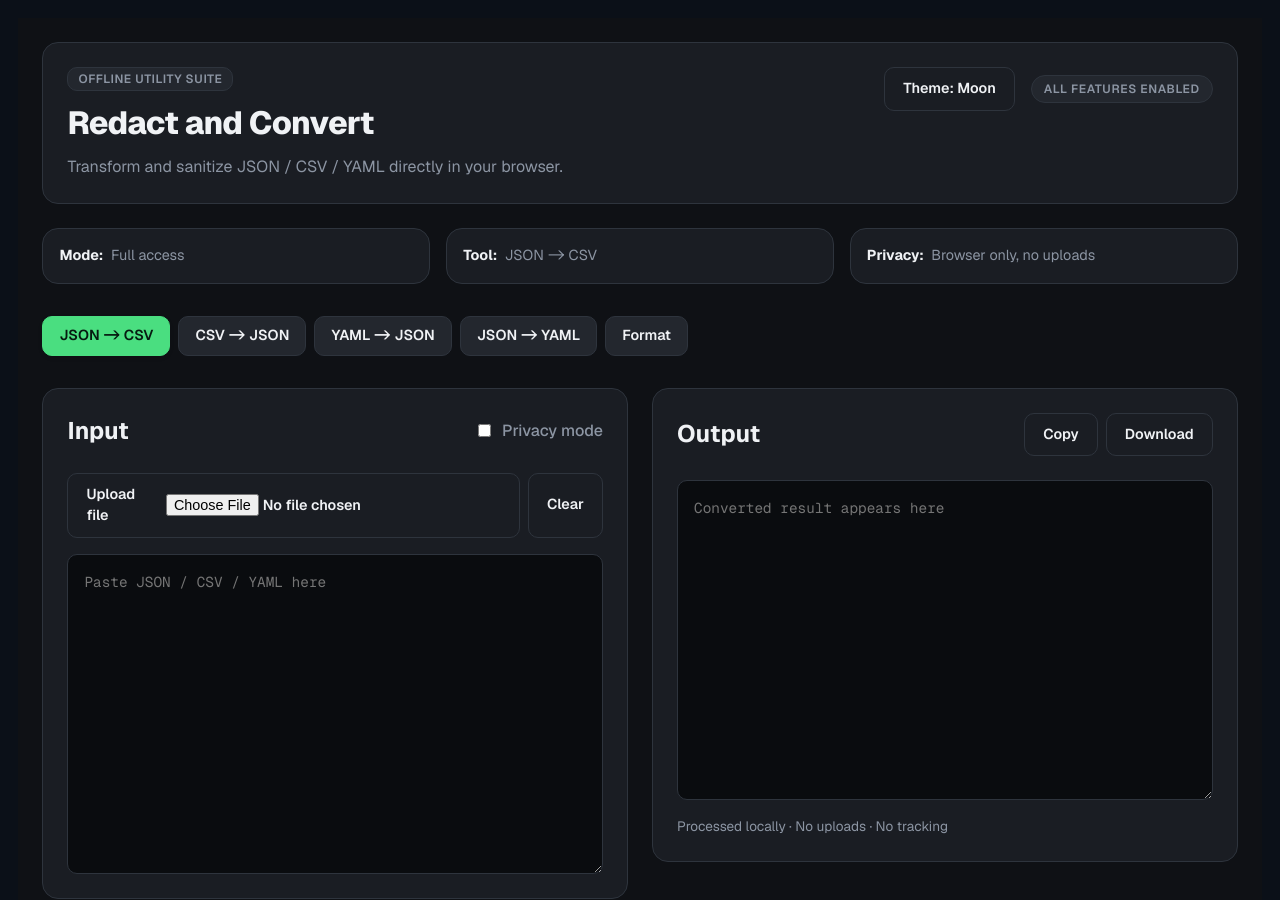
App integration › toggles theme between moon and dawn
Click the button with class "theme-toggle" at (950, 89), box [884, 67, 1015, 111]
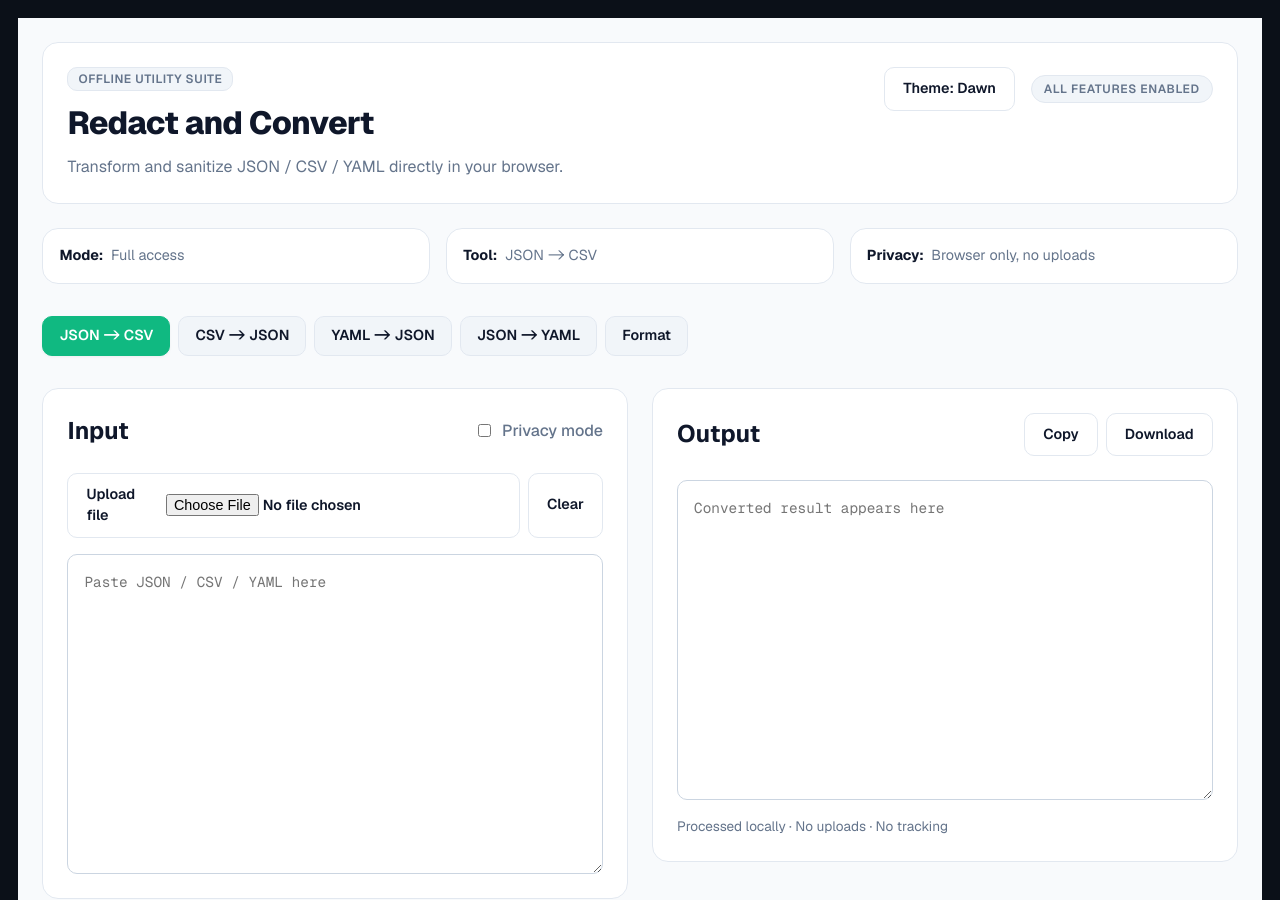
Now the button with class "theme-toggle" shows "Dawn", box [884, 67, 1015, 111]
